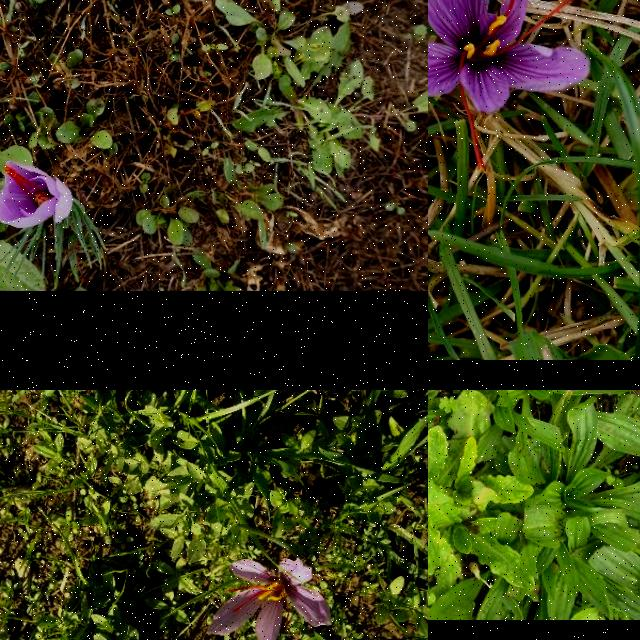flower: (428, 0, 615, 173), (206, 558, 332, 640), (0, 161, 72, 229)
